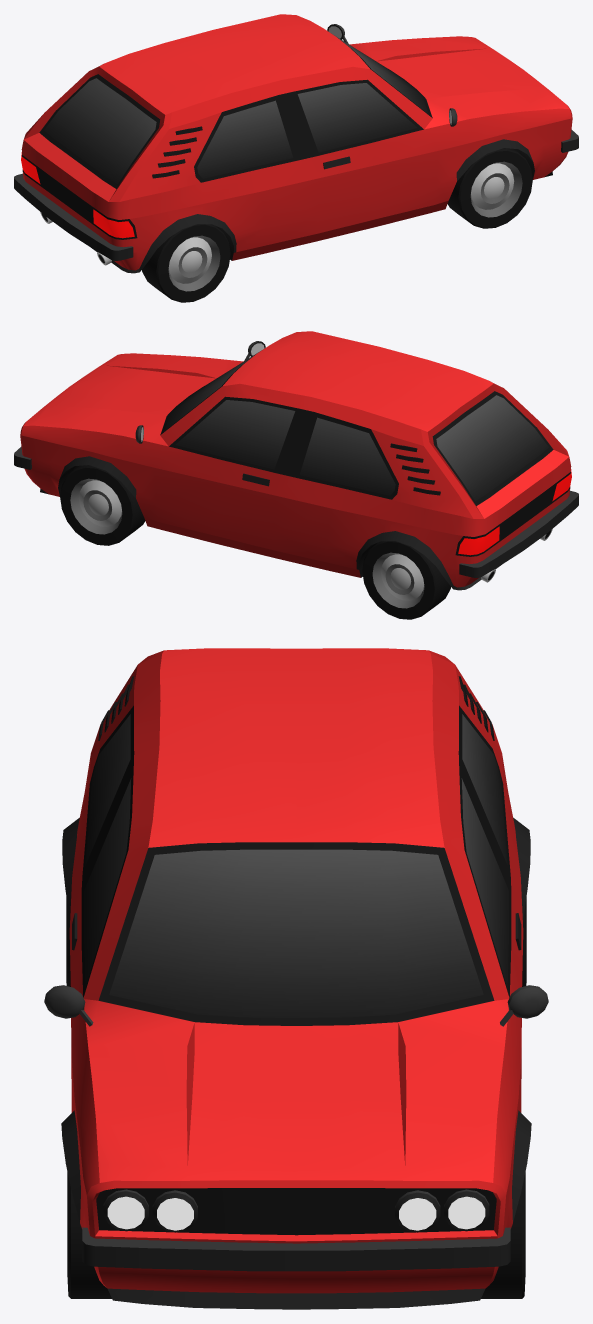
Rendered from Car_264.glb.
3 views of the same model, one above another, from view 1: azimuth 30°, elevation 25°; view 2: azimuth 150°, elevation 25°; view 3: azimuth 270°, elevation 25° (orthographic). The views are drawn at different scales.
Visible parts, largest first — view 1: Car_264, wheel_3_Car_264_Wheel_2R, wheel_1_Car_264_Wheel_1R; view 2: Car_264, wheel_2_Car_264_Wheel_2L, wheel_0_Car_264_Wheel_1L; view 3: Car_264, wheel_1_Car_264_Wheel_1R, wheel_0_Car_264_Wheel_1L.
Boxes of the visible parts, box(x1,y1,x2,y2) form: Car_264: box(14, 14, 578, 273); wheel_3_Car_264_Wheel_2R: box(142, 224, 230, 302); wheel_1_Car_264_Wheel_1R: box(447, 148, 532, 228); Car_264: box(14, 331, 578, 590); wheel_2_Car_264_Wheel_2L: box(362, 541, 450, 619); wheel_0_Car_264_Wheel_1L: box(60, 465, 145, 545); Car_264: box(44, 648, 548, 1309); wheel_1_Car_264_Wheel_1R: box(67, 1172, 111, 1298); wheel_0_Car_264_Wheel_1L: box(481, 1172, 525, 1298).
Bounding box in the file's own units: 3.77 × 1.36 × 1.74.
Materials: 2 (2 with a texture image).
